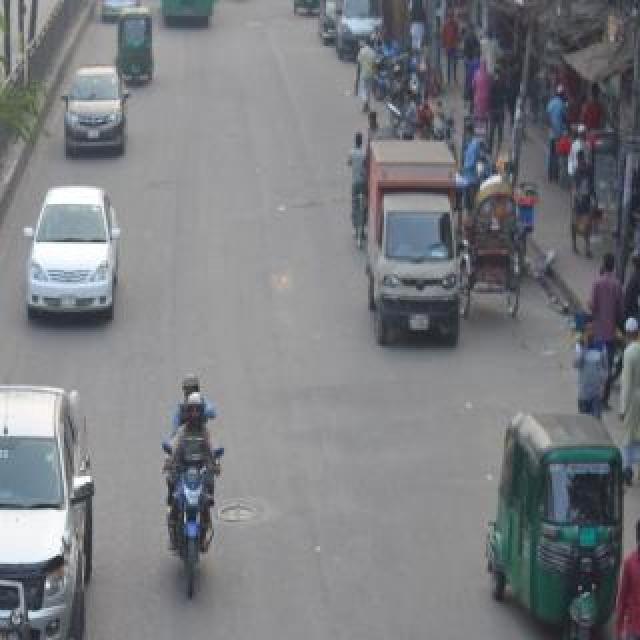bus: (0, 626, 92, 640)
car: (0, 404, 122, 640), (0, 174, 148, 362), (41, 60, 149, 214), (0, 24, 20, 208)
motorbike: (140, 290, 270, 640)
van: (336, 119, 510, 423)
